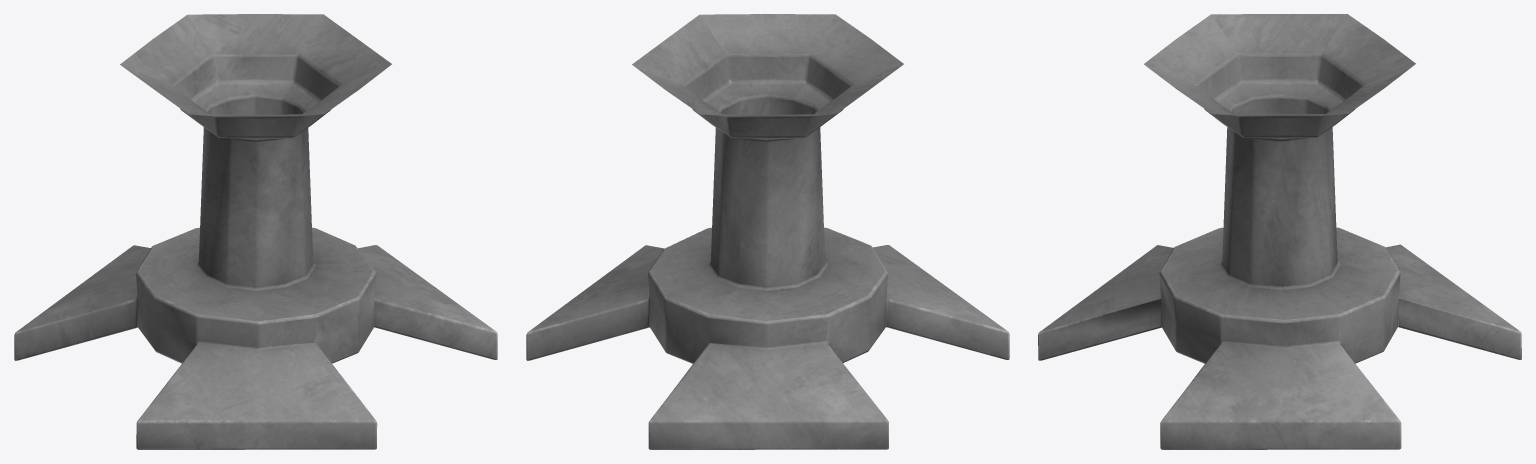
Rendered from EngineerRoom_SwivelChair_Bottom.fbx.
3 renders of one model, left to right at view 1: azimuth 30°, elevation 25°; view 2: azimuth 150°, elevation 25°; view 3: azimuth 270°, elevation 25°, orthographic.
Parts seen in each view (by area): view 1: SwivelChair.008; view 2: SwivelChair.008; view 3: SwivelChair.008.
Part boxes in pixels (x1,y1,x2,y2): SwivelChair.008: [14, 14, 497, 449]; SwivelChair.008: [526, 14, 1009, 449]; SwivelChair.008: [1038, 14, 1521, 449].
Bounding box in the file's own units: 72.19 × 48.96 × 62.73.
